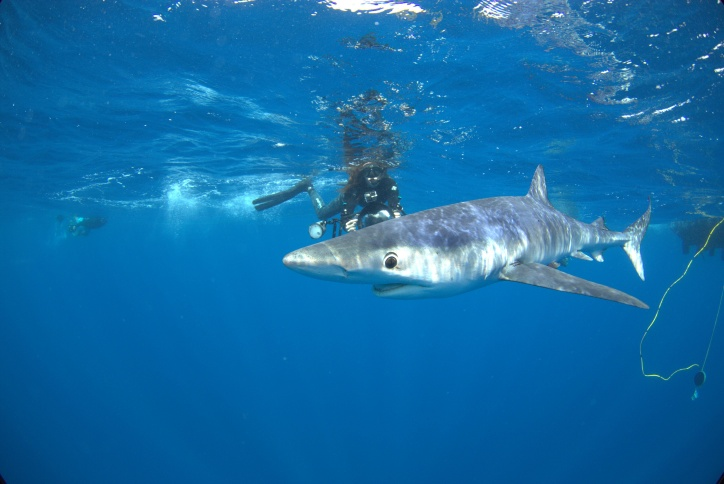Azul: (229, 146, 666, 337)
